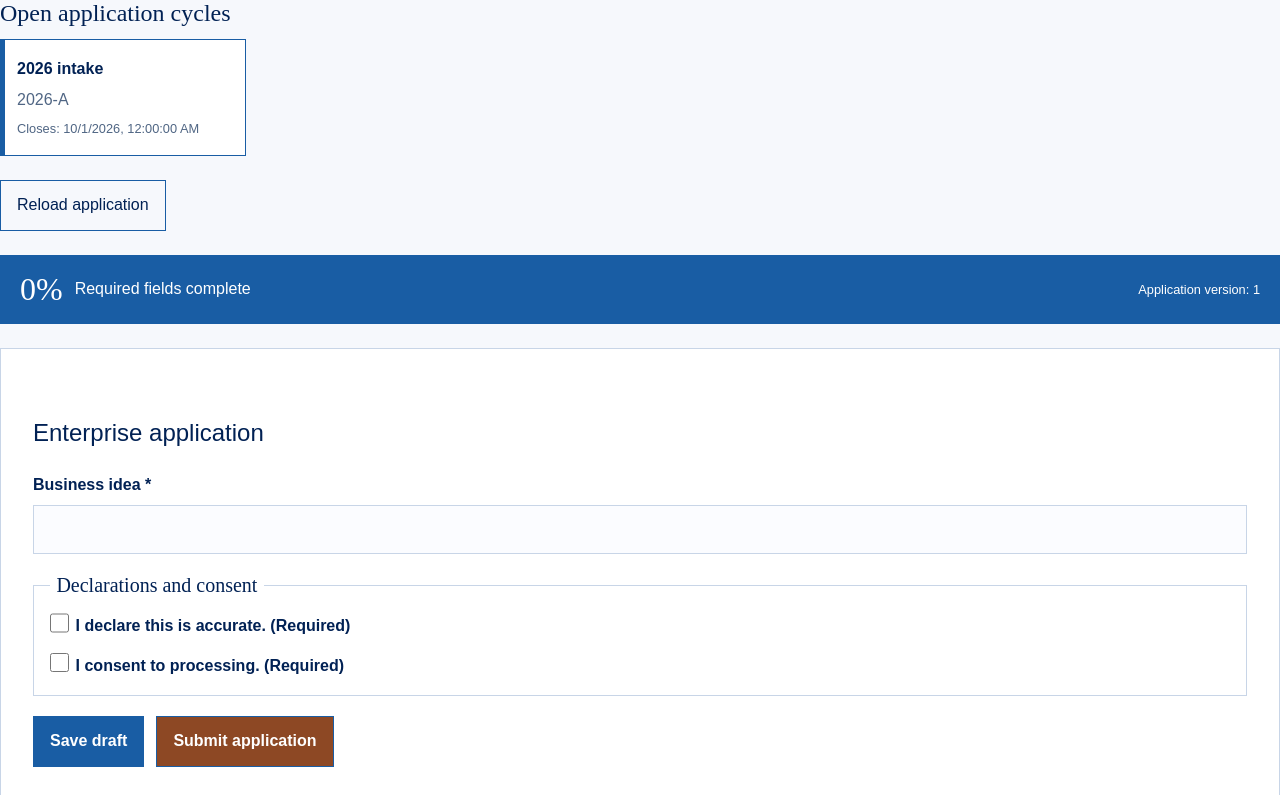
Test case: application final submission › saves answers and accepted policy before showing the immutable receipt
(page scrolled)
Type "A repair service" into the field labelled "Business idea *" at x=640, y=530, box [33,505,1247,554]
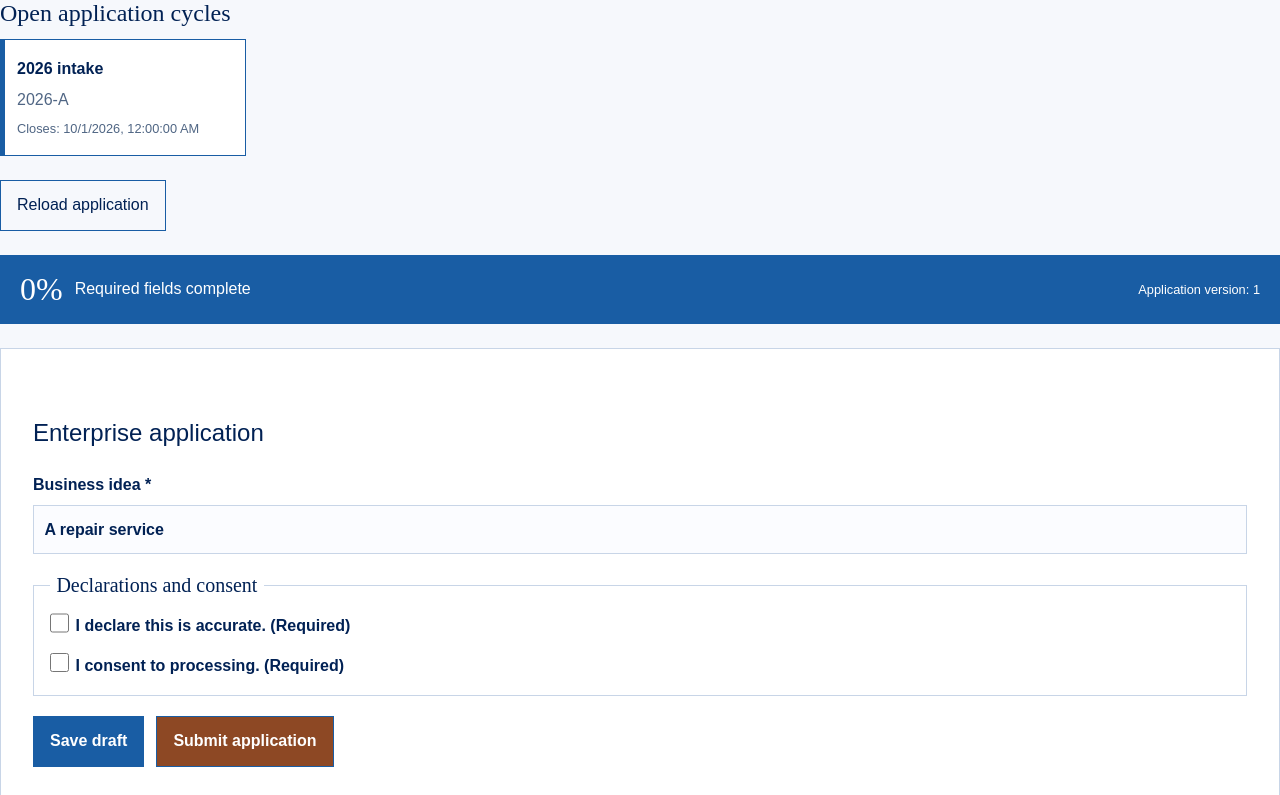
Click the checkbox labelled "I declare this is accurate. (Required)" at x=60, y=623, box [50,613,69,633]
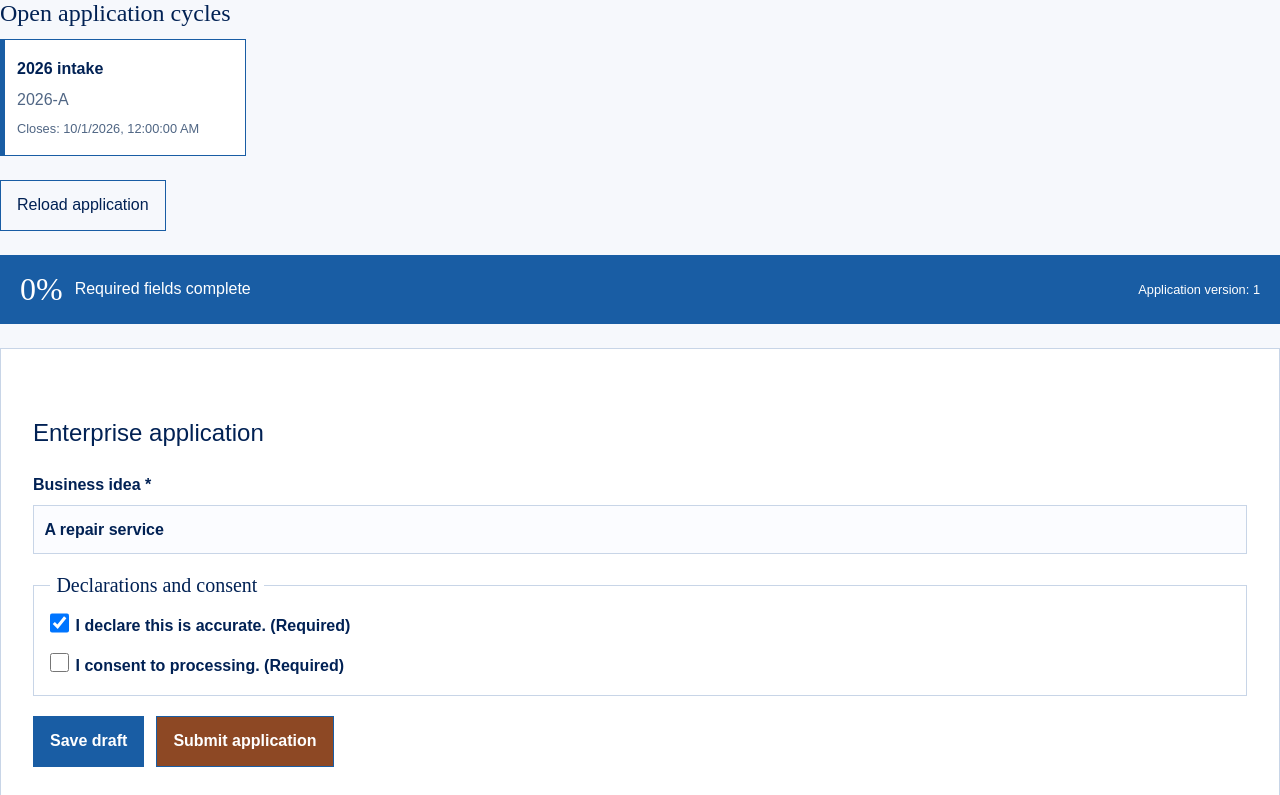
Click the checkbox labelled "I consent to processing. (Required)" at x=60, y=662, box [50,652,69,672]
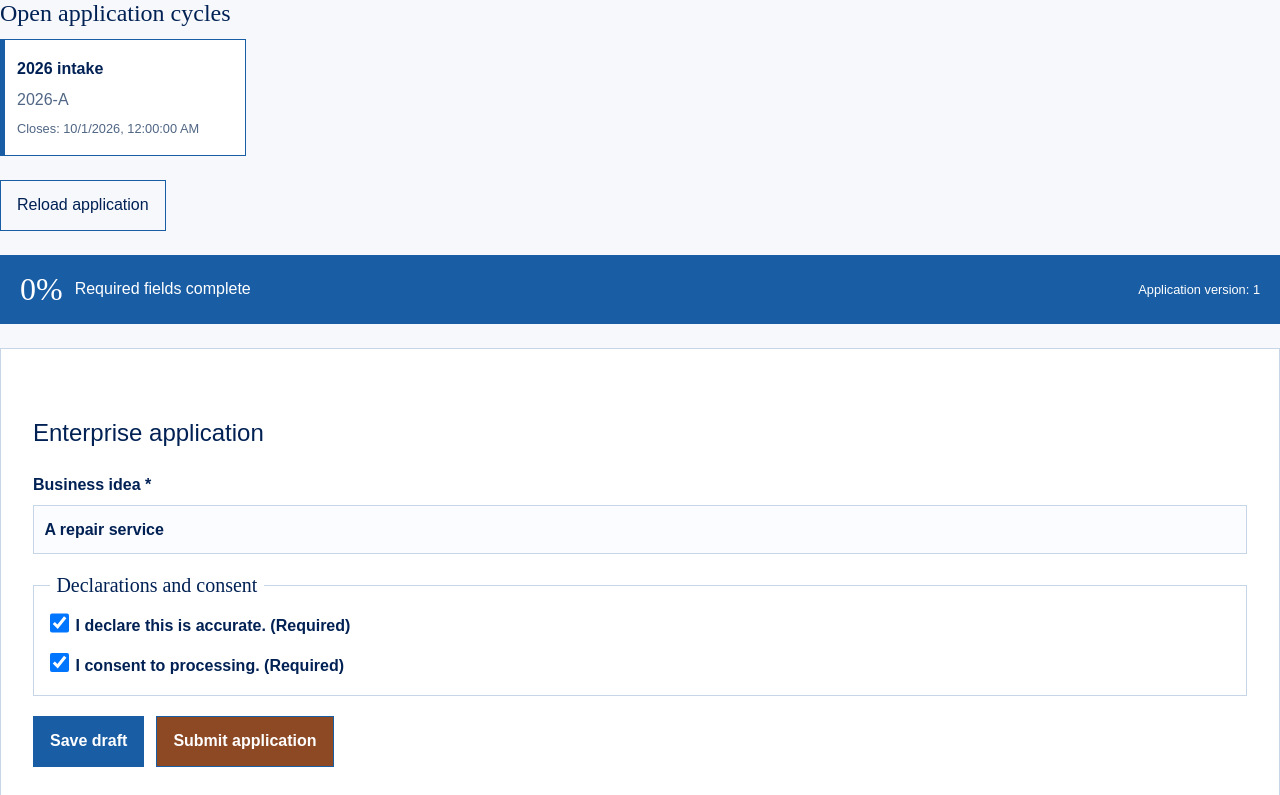
Click the button "Submit application" at x=245, y=741, box [156,716,334,767]
(page scrolled)
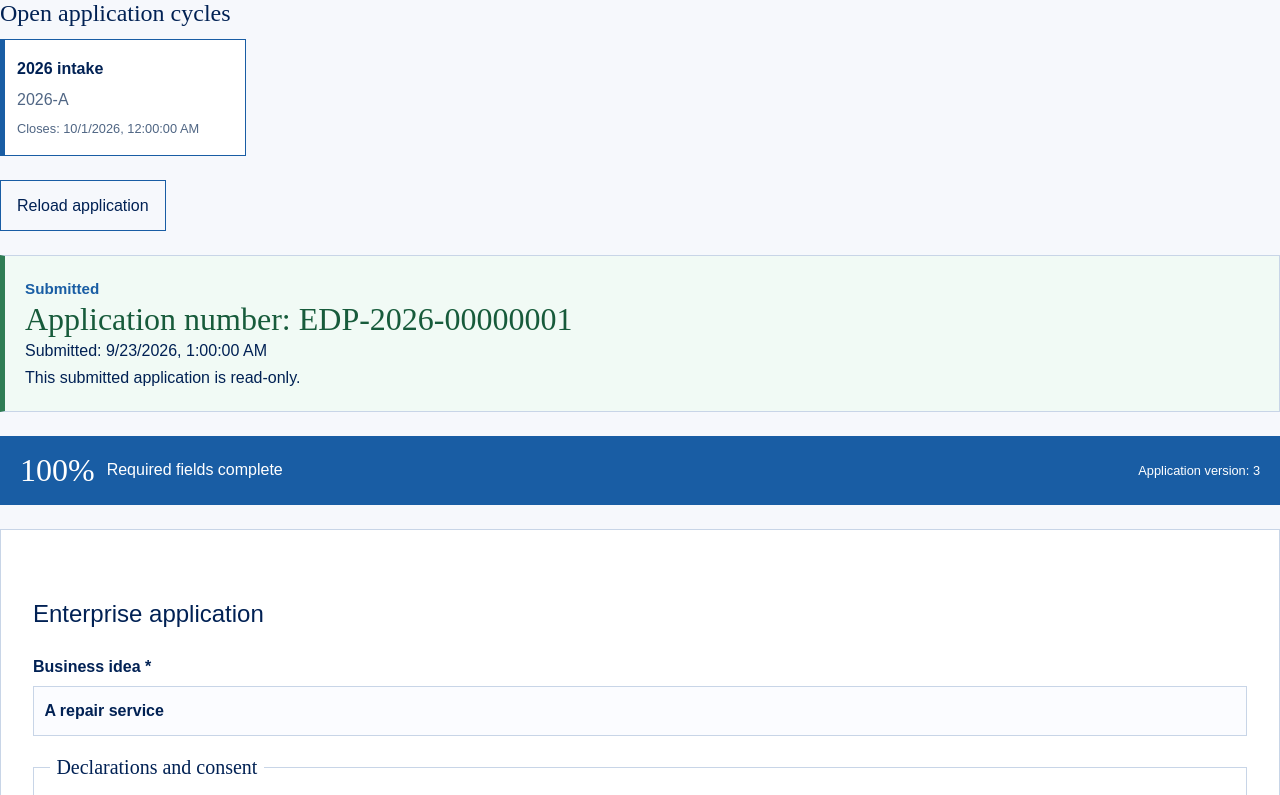
Now the text "Application number: EDP-2026-00000001" is shown, box [25,301,572,337]
